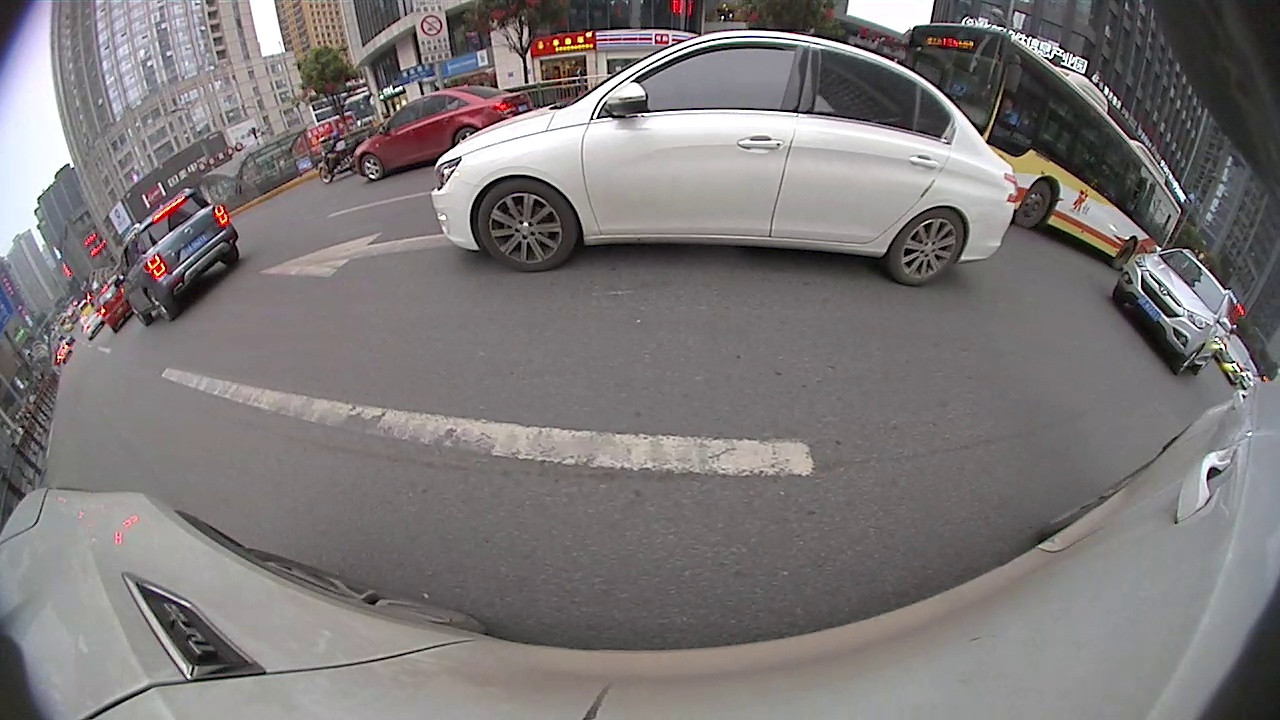bus: (902, 22, 1190, 272)
car: (428, 27, 1018, 287), (351, 83, 540, 184), (113, 186, 244, 329), (1106, 245, 1237, 377)
front: (478, 179, 578, 272), (1012, 179, 1054, 232), (361, 152, 384, 179)
rear: (891, 207, 966, 287), (143, 287, 174, 324), (1111, 236, 1138, 270)
